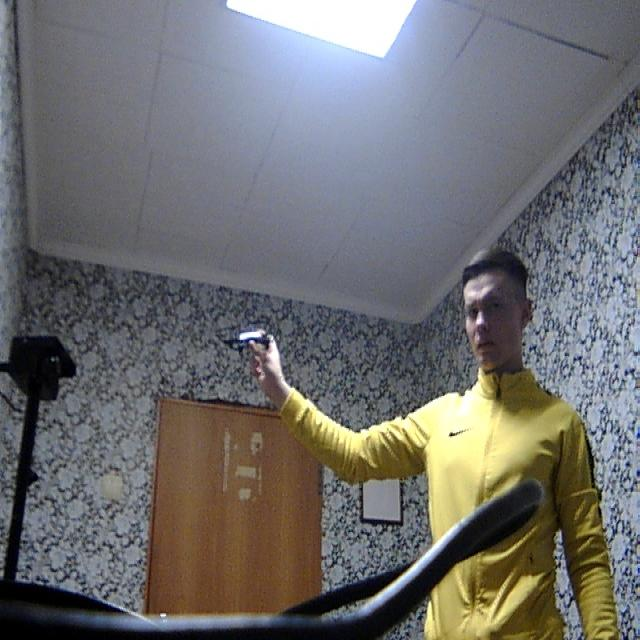drone: (214, 306, 294, 368)
